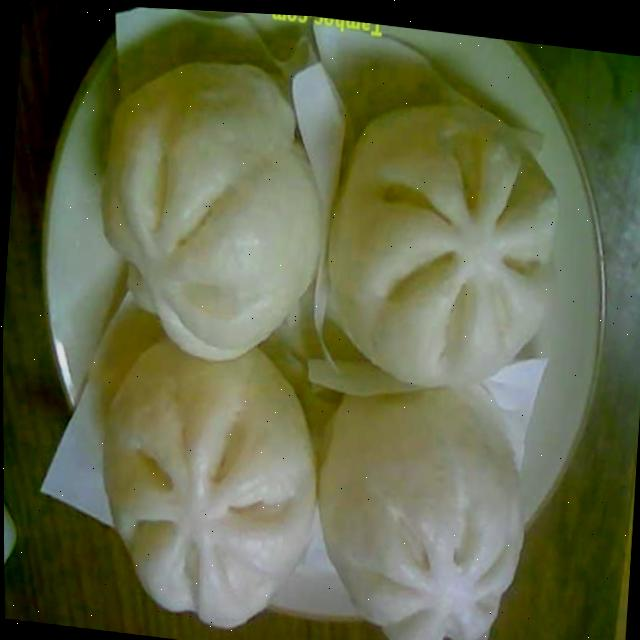带馅早点: (67, 43, 581, 640)
